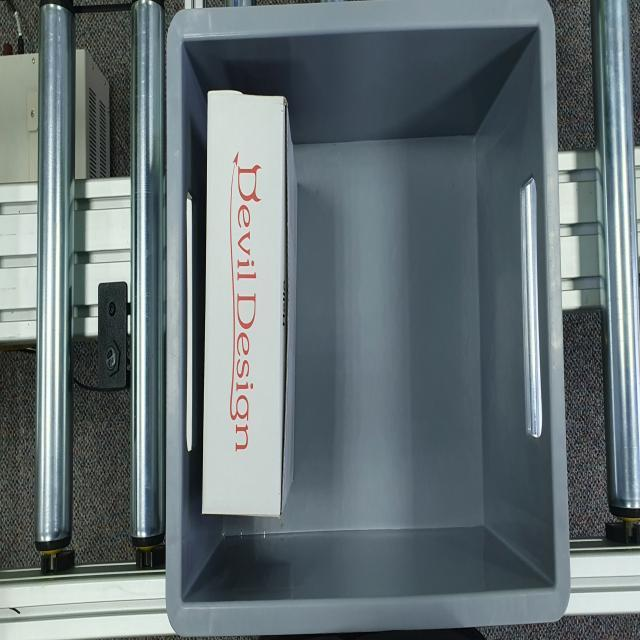box: (200, 89, 294, 515)
